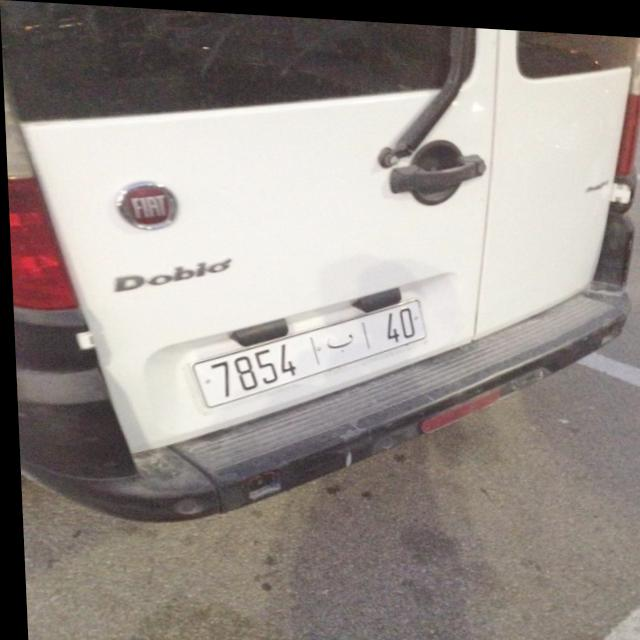License-Plate: (189, 295, 423, 404)
